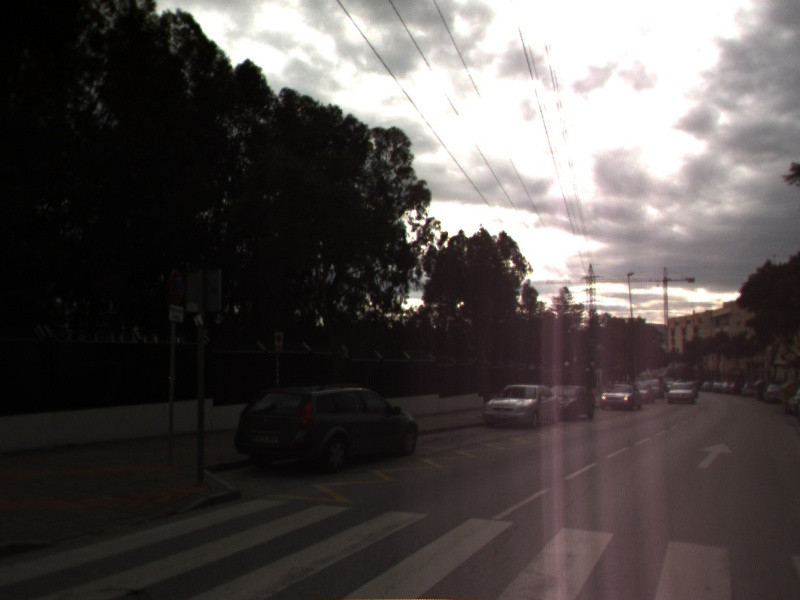STRAIGHT: (694, 440, 737, 471)
